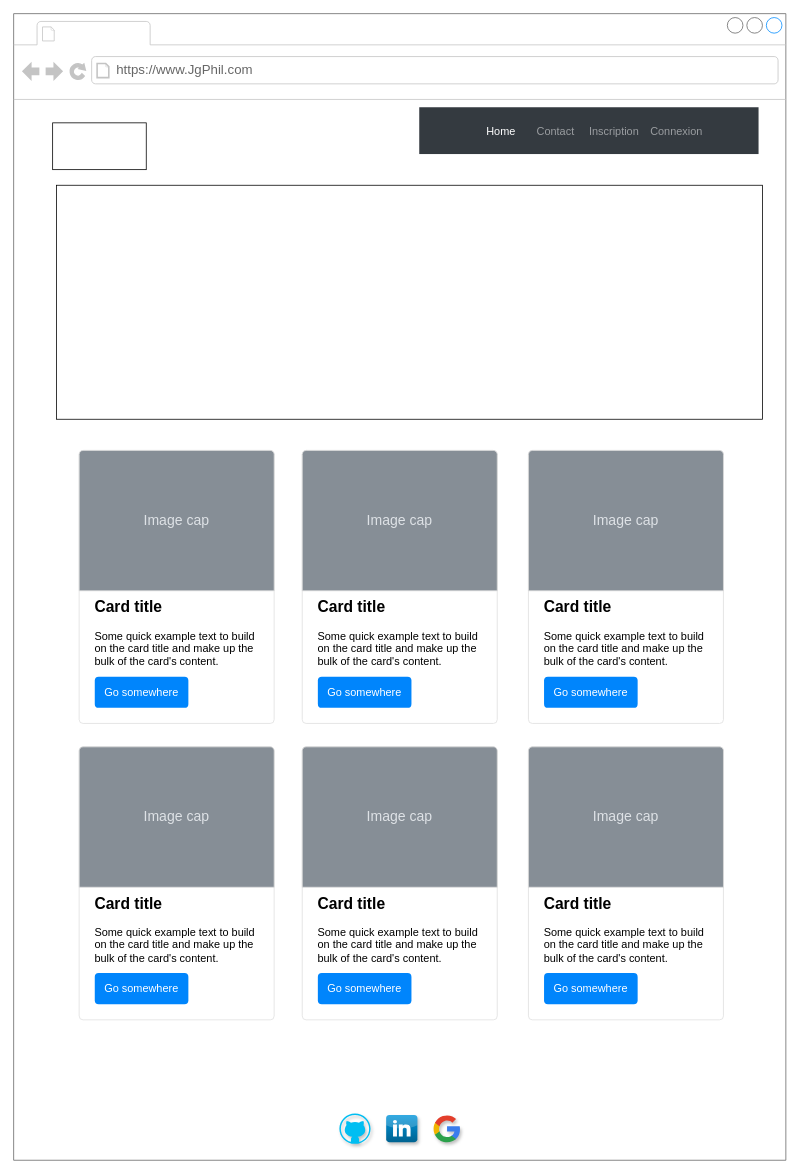
This 800x1174 diagram has some shape labels left out. Each missing label, with the centre of its shape:
"HERO AREA Intro + CV link" goes at [409,301].
"LOGO" goes at [99,146].
"Navbar" goes at [588,130].
"Page 1" goes at [103,32].
